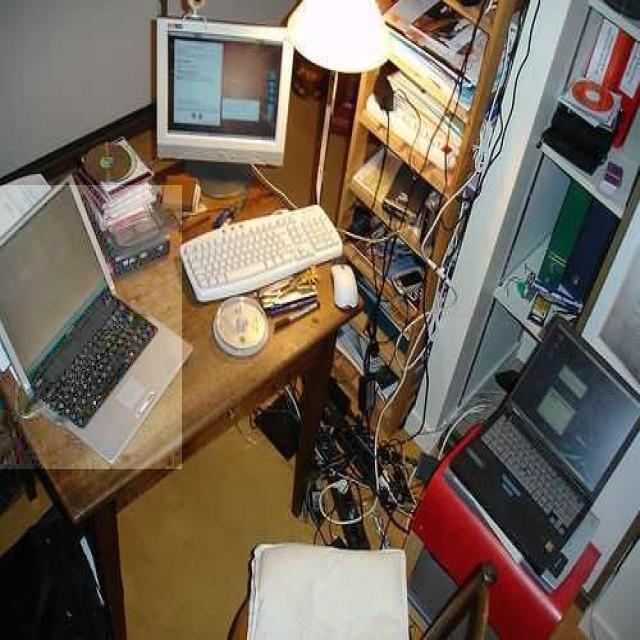-keyboard-: (0, 185, 182, 469), (443, 318, 640, 570)
